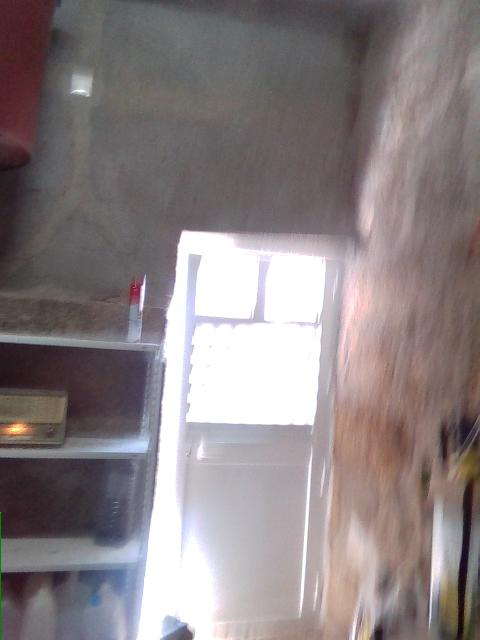closed_door: (177, 247, 345, 638)
